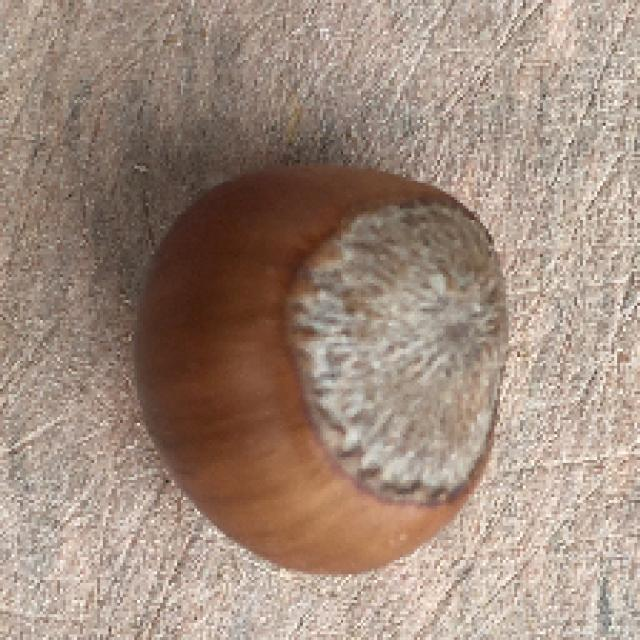qualityHazelnut: (154, 152, 512, 578)
